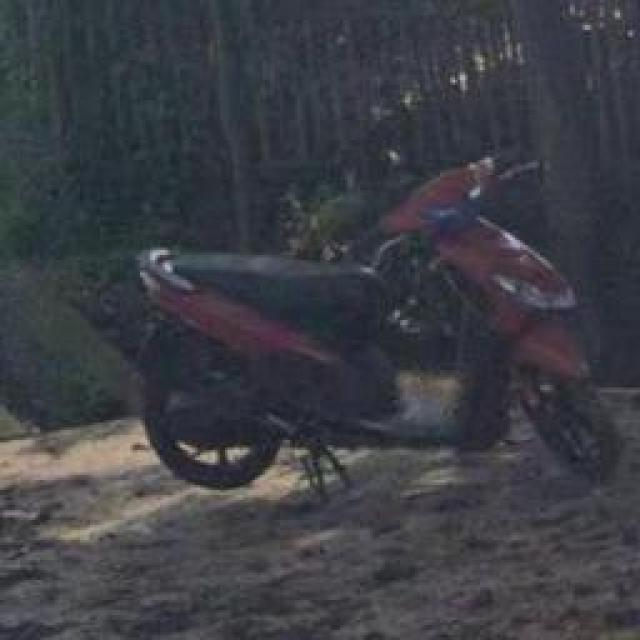motorcycle: (132, 152, 622, 498)
